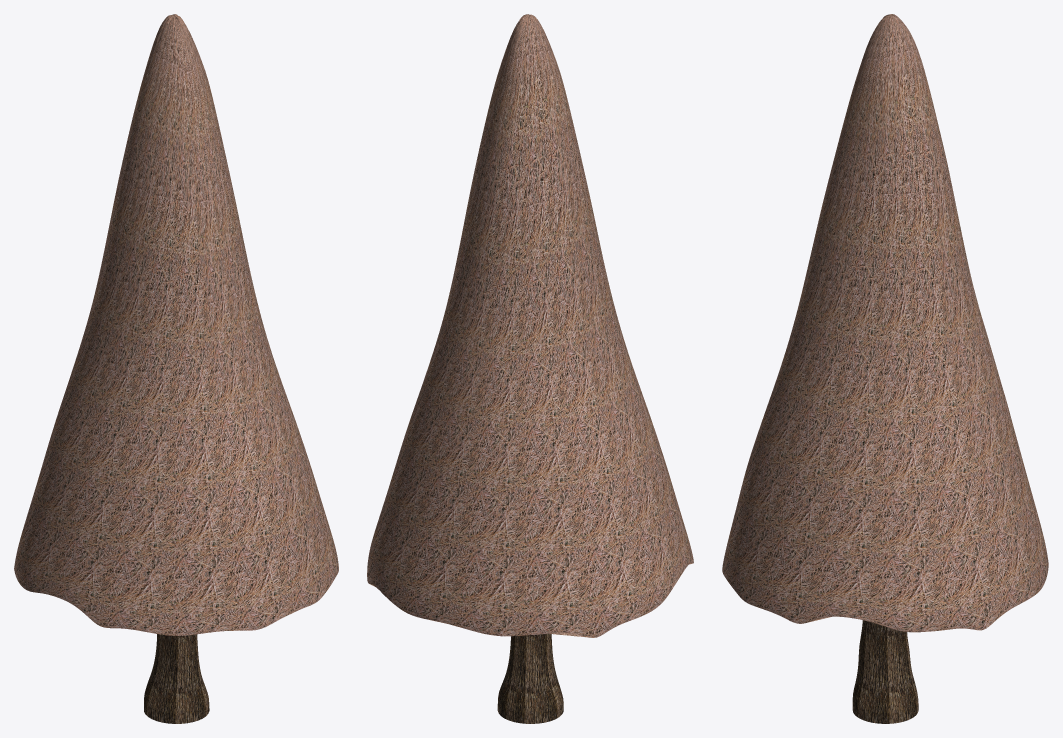
File: dead_pine.fbx
3 renders of one model, left to right at view 1: azimuth 30°, elevation 25°; view 2: azimuth 150°, elevation 25°; view 3: azimuth 270°, elevation 25°, orthographic.
Parts seen in each view (by area): view 1: Cylinder.001, Cylinder; view 2: Cylinder.001, Cylinder; view 3: Cylinder.001, Cylinder.
Part boxes in pixels (x1,y1,x2,y2): Cylinder.001: (14,14,338,635); Cylinder: (144,634,209,723); Cylinder.001: (367,14,693,637); Cylinder: (497,633,563,723); Cylinder.001: (722,14,1048,632); Cylinder: (852,620,918,723).
Size of the model in its own units: 196 by 465 by 198.
Materials: 2 (2 with a texture image).
